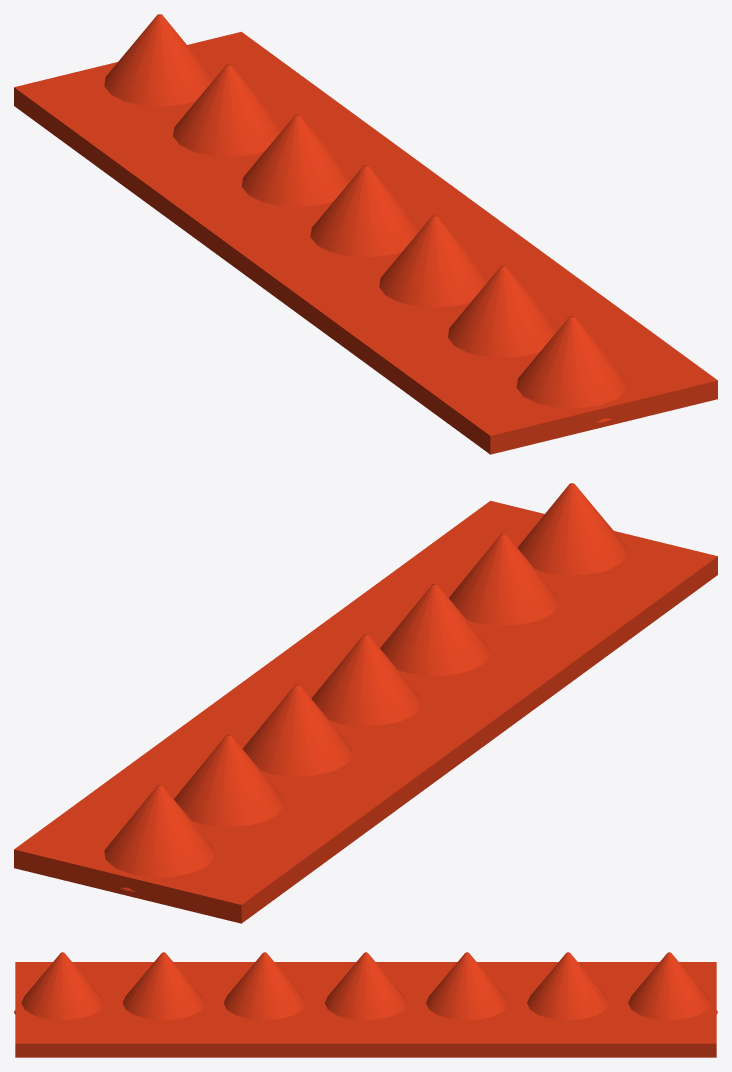
File: Dikenler.fbx
3 views of the same model, one above another, from view 1: azimuth 30°, elevation 25°; view 2: azimuth 150°, elevation 25°; view 3: azimuth 270°, elevation 25° (orthographic). The views are drawn at different scales.
Visible parts, largest first — view 1: Diken; view 2: Diken; view 3: Diken.
Boxes of the visible parts, x1,y1,x2,y2 form: Diken: (14,14,717,454); Diken: (14,483,717,923); Diken: (14,952,717,1057).
Size of the model in its own units: 2 by 0.7237 by 7.28.
